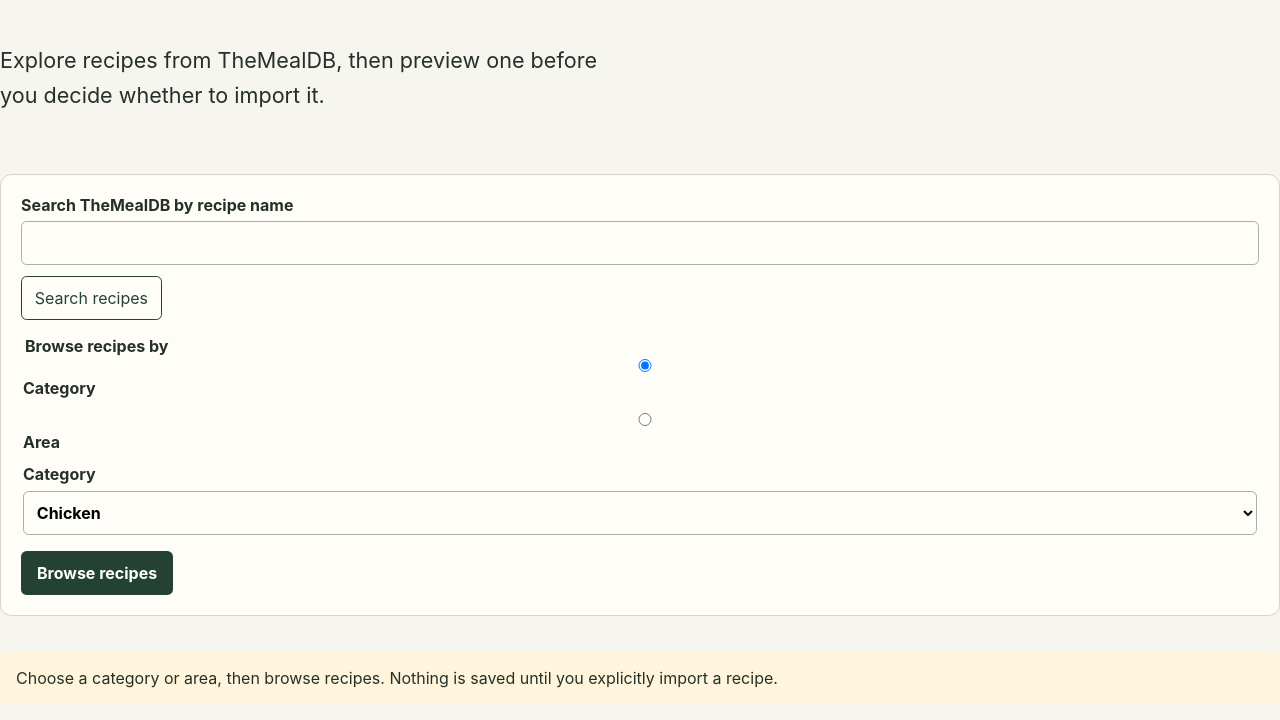
Test: browses a category without creating an import
The width and height of the screenshot is (1280, 720).
(page scrolled)
Click the button "Browse recipes" at (97, 573), box [21,551,173,595]
(page scrolled)
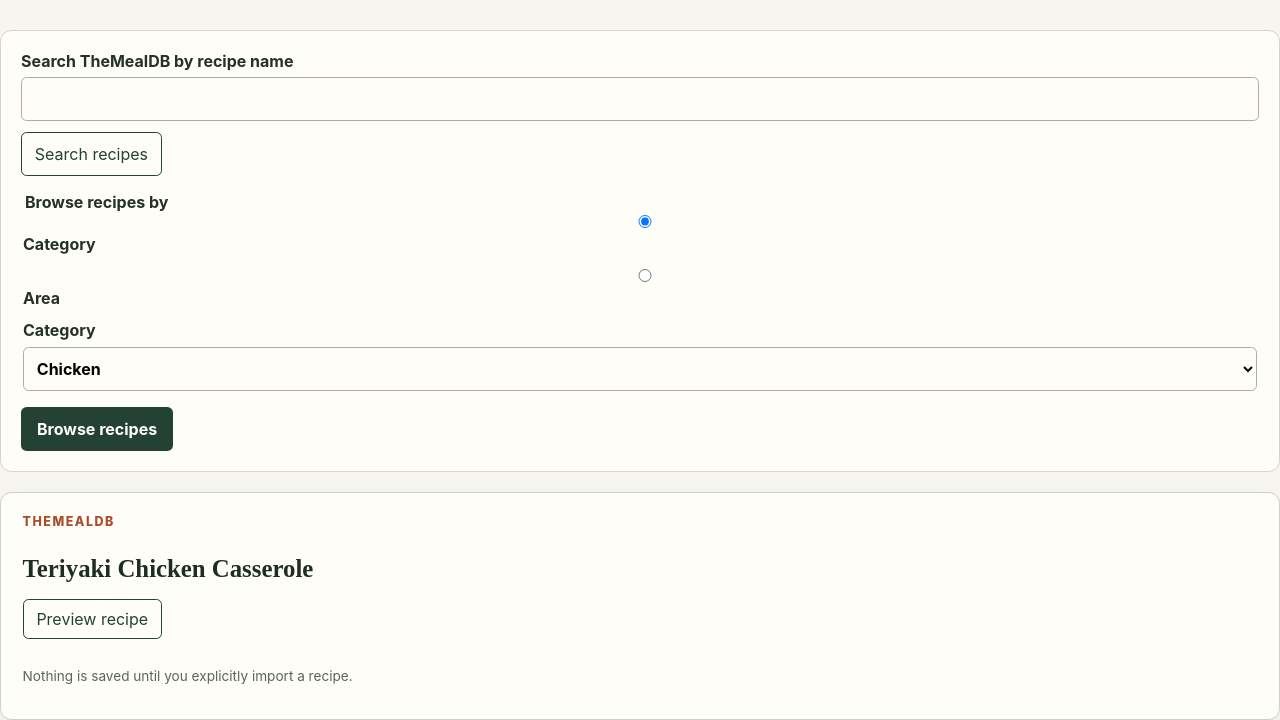
Expected: the heading "Teriyaki Chicken Casserole" is shown, [23,555,313,582]
